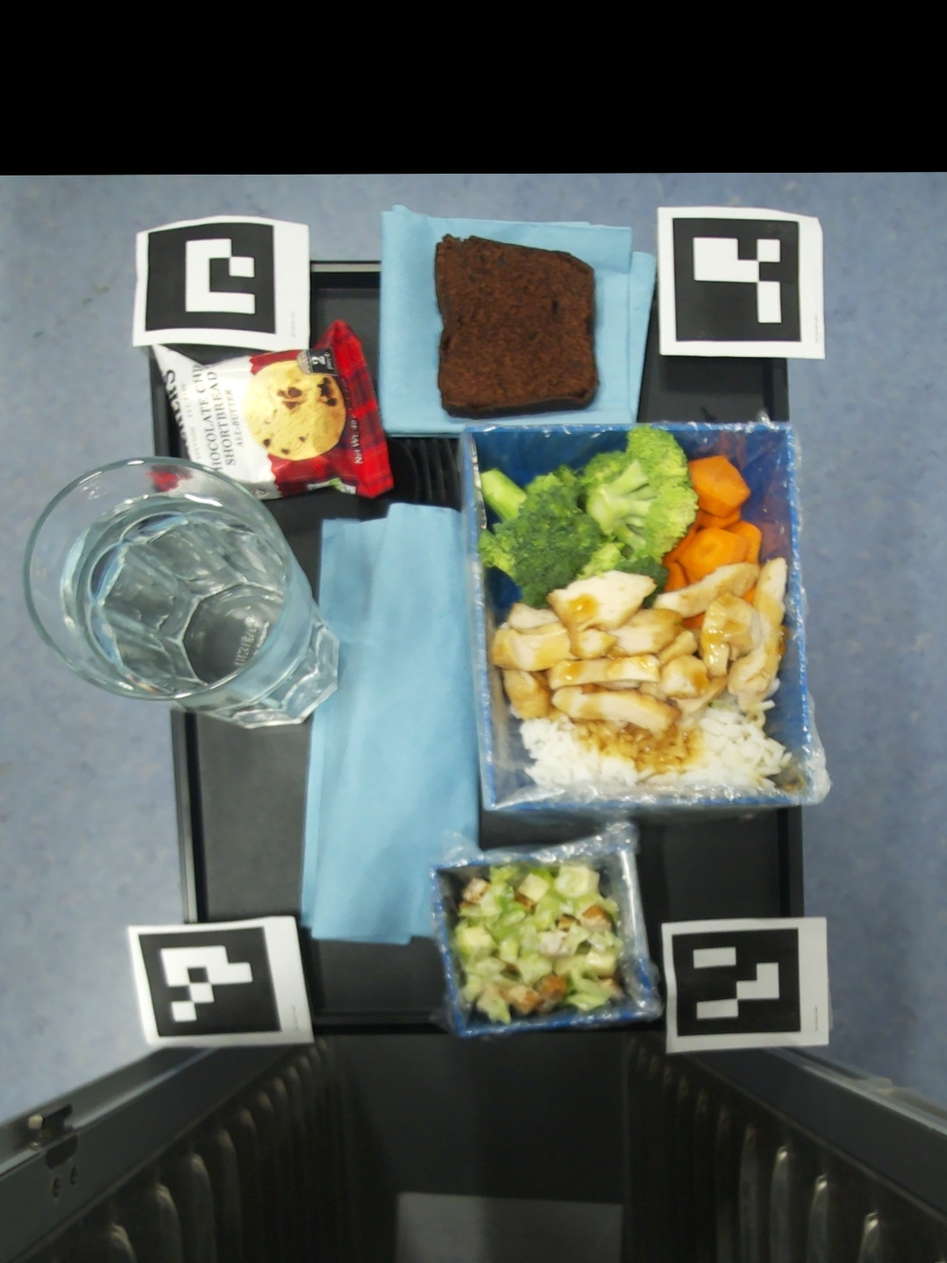broccoli: (480, 424, 701, 609)
brownie: (435, 233, 599, 419)
carrots: (663, 454, 762, 590)
chicken: (489, 558, 789, 742)
cookie: (151, 317, 394, 500)
rice: (519, 675, 793, 791)
side_salad: (451, 865, 627, 1024)
water_bottle: (26, 458, 340, 730)
